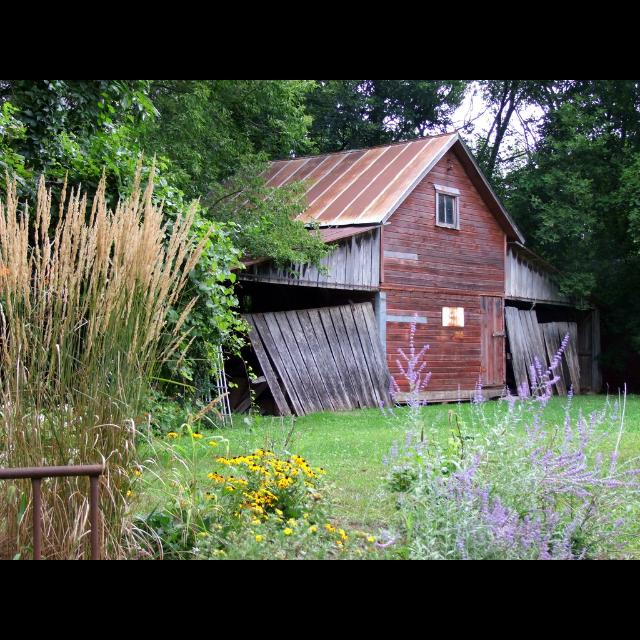Flower: (378, 312, 640, 560), (168, 449, 374, 549), (276, 472, 290, 490), (207, 440, 217, 446), (126, 489, 134, 495), (168, 432, 176, 438), (135, 471, 139, 477), (192, 434, 200, 436)
